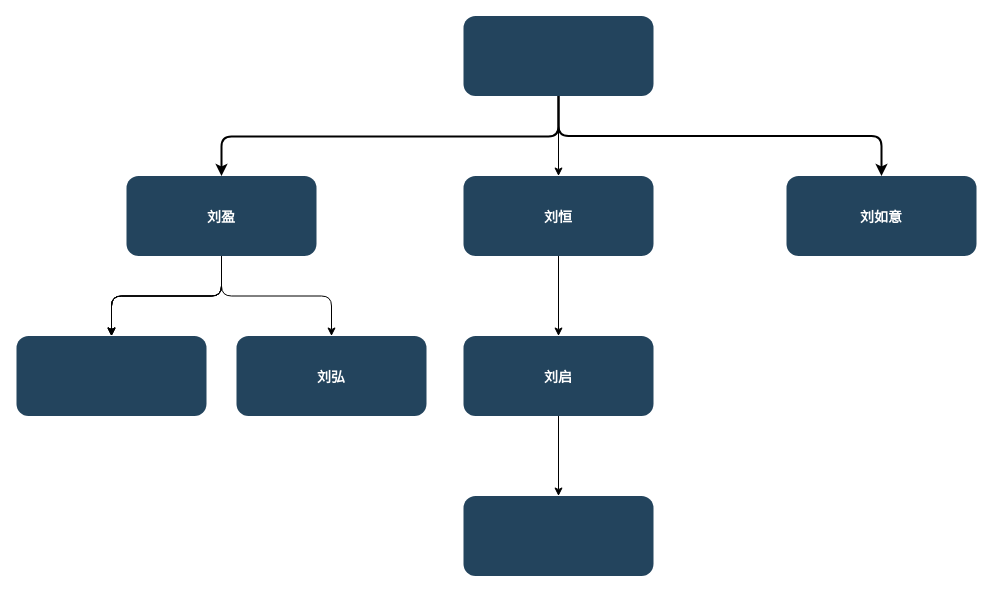
The diagram is 993 pixels wide and 592 high, and some of its shapes have lost their labels. Here are the shapes that lost their labels. From the top down, the centre of each, then its label:
(x=558, y=56): 刘邦
(x=111, y=376): 刘恭
(x=558, y=536): 刘彻
